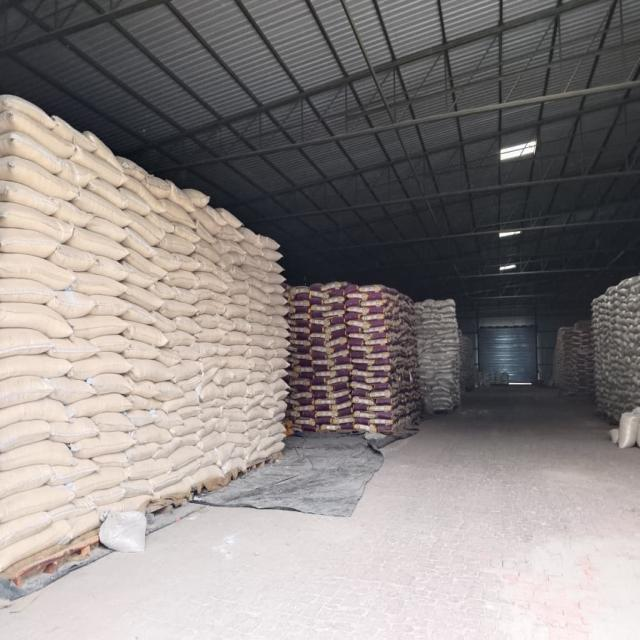Sack-2: (0, 108, 73, 158), (0, 200, 68, 243), (0, 251, 72, 291), (2, 519, 66, 563), (2, 132, 64, 176), (1, 157, 69, 195), (4, 302, 70, 338), (0, 89, 54, 131), (98, 514, 150, 555), (75, 186, 127, 225), (0, 485, 67, 515), (68, 226, 123, 259), (0, 224, 51, 259), (0, 510, 47, 546), (2, 182, 58, 212), (5, 441, 66, 467), (70, 393, 128, 420), (0, 401, 68, 424), (68, 353, 128, 378), (122, 180, 164, 214), (76, 466, 125, 495), (4, 354, 67, 376), (72, 314, 126, 339), (50, 195, 89, 228), (1, 326, 46, 354), (0, 281, 49, 306), (0, 467, 49, 492), (0, 420, 50, 444), (76, 273, 126, 297), (125, 358, 177, 381), (76, 432, 129, 454), (88, 152, 122, 186), (0, 378, 47, 401), (48, 378, 92, 402), (51, 293, 92, 318), (48, 420, 99, 440), (48, 340, 96, 360), (116, 152, 148, 182), (124, 281, 158, 308), (126, 252, 164, 276), (90, 215, 125, 241), (127, 215, 163, 240), (53, 458, 90, 482), (127, 322, 165, 345), (192, 205, 220, 236), (62, 159, 94, 186), (90, 414, 133, 434), (180, 183, 213, 209), (129, 424, 171, 444), (71, 508, 101, 534), (126, 459, 169, 477), (54, 496, 90, 517), (84, 298, 126, 316), (191, 324, 228, 344), (93, 374, 129, 394), (171, 445, 201, 469), (171, 375, 203, 397), (89, 136, 115, 163), (105, 497, 146, 514), (169, 182, 193, 211), (91, 335, 129, 353), (88, 256, 126, 274), (156, 479, 192, 498), (192, 339, 230, 356), (125, 379, 157, 399), (152, 248, 181, 270), (163, 233, 193, 254), (200, 428, 224, 454), (215, 205, 242, 228), (192, 240, 219, 263), (124, 264, 152, 286), (153, 380, 183, 400), (158, 395, 198, 410), (189, 273, 229, 288), (195, 464, 222, 486), (246, 274, 275, 294), (157, 438, 182, 461), (124, 234, 151, 254), (245, 306, 273, 325), (217, 280, 250, 296), (173, 359, 199, 379), (149, 211, 176, 230), (165, 270, 197, 286), (125, 194, 149, 215), (172, 224, 200, 242), (161, 299, 194, 314), (174, 418, 200, 437), (150, 278, 174, 298), (246, 285, 270, 305), (170, 253, 198, 270), (219, 224, 244, 243), (96, 486, 122, 504), (223, 303, 250, 320), (151, 310, 176, 328), (161, 330, 193, 344), (129, 344, 157, 360), (173, 315, 199, 332), (152, 472, 178, 489), (225, 430, 251, 447), (128, 394, 159, 408), (155, 347, 179, 365), (223, 331, 250, 347), (196, 418, 218, 437), (124, 480, 150, 496), (244, 356, 270, 372), (270, 379, 294, 396), (94, 455, 131, 466), (223, 382, 248, 398), (177, 460, 199, 478), (222, 409, 250, 423), (153, 410, 181, 424), (216, 254, 244, 268), (128, 304, 151, 321), (200, 356, 223, 373), (248, 331, 271, 348), (129, 444, 158, 457), (246, 320, 269, 336), (197, 301, 223, 315), (246, 436, 260, 461), (195, 293, 230, 303), (202, 383, 222, 400), (172, 288, 196, 302), (218, 442, 232, 466), (175, 346, 198, 360), (250, 382, 270, 398), (128, 410, 154, 422), (224, 396, 246, 410), (242, 242, 264, 256), (270, 280, 288, 297), (212, 368, 231, 384), (200, 450, 218, 466), (246, 406, 268, 419), (224, 460, 244, 474), (230, 368, 250, 382), (226, 266, 246, 280), (244, 452, 267, 464), (225, 356, 248, 368), (245, 393, 262, 409), (234, 318, 251, 334), (268, 442, 286, 457), (259, 434, 274, 452), (180, 434, 198, 449), (244, 344, 263, 358), (272, 358, 294, 370), (225, 420, 247, 432), (200, 407, 222, 419), (260, 236, 280, 249), (181, 406, 200, 419), (228, 343, 247, 356), (270, 316, 290, 328), (270, 422, 286, 437), (198, 400, 224, 409), (268, 294, 287, 306), (247, 372, 267, 383), (265, 250, 283, 262), (277, 401, 292, 415), (265, 276, 288, 285), (245, 266, 265, 276), (242, 228, 256, 242), (272, 260, 284, 276), (273, 338, 292, 348), (274, 348, 293, 358), (232, 447, 247, 458), (245, 417, 263, 426), (273, 330, 293, 338), (217, 417, 227, 433), (261, 398, 277, 408), (246, 426, 257, 440), (275, 304, 288, 315), (277, 370, 291, 380), (232, 294, 246, 304), (277, 412, 286, 425), (260, 419, 273, 428), (275, 433, 287, 442), (257, 429, 268, 437)
